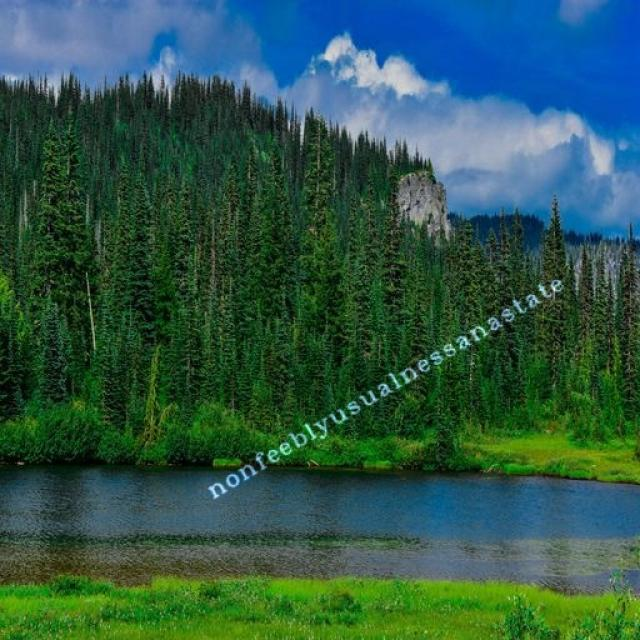watermark: (205, 268, 565, 502)
